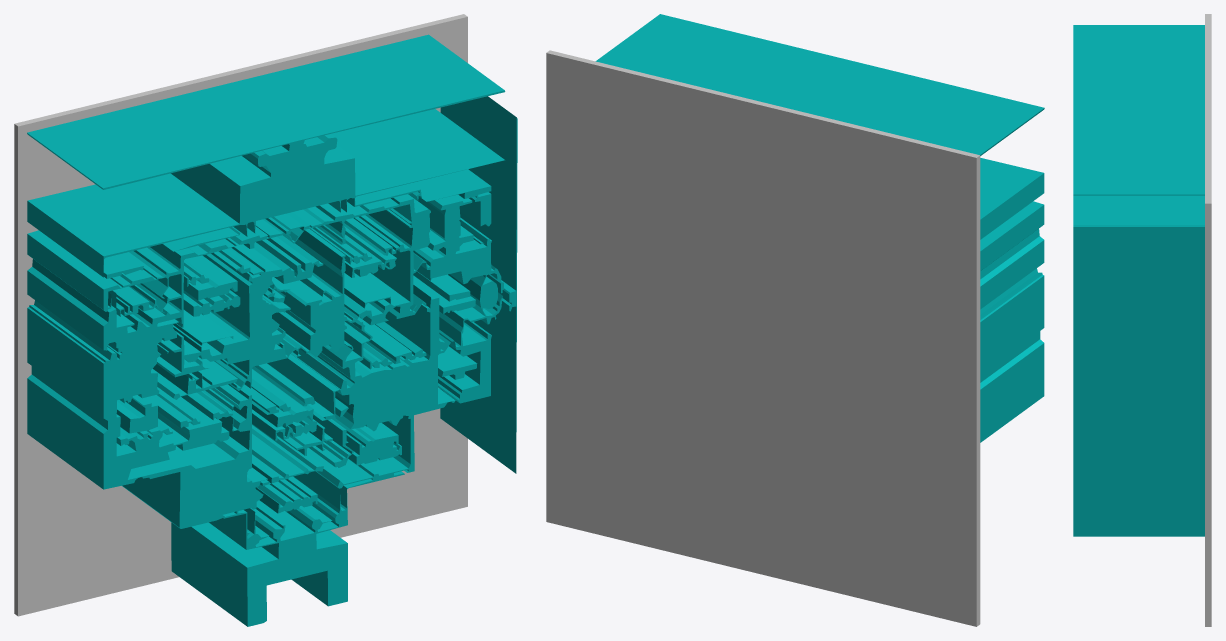
3 views of the same model, side by side, from view 1: azimuth 30°, elevation 25°; view 2: azimuth 150°, elevation 25°; view 3: azimuth 270°, elevation 25° (orthographic). The views are drawn at different scales.
Visible parts, largest first — view 1: world; view 2: world; view 3: world.
Part boxes in pixels (box(x1,y1,x2,y2)): world: box(14, 14, 517, 626); world: box(546, 14, 1044, 626); world: box(1073, 14, 1211, 626).
Size of the model in its own units: 10.23 by 10.65 by 3.15.
